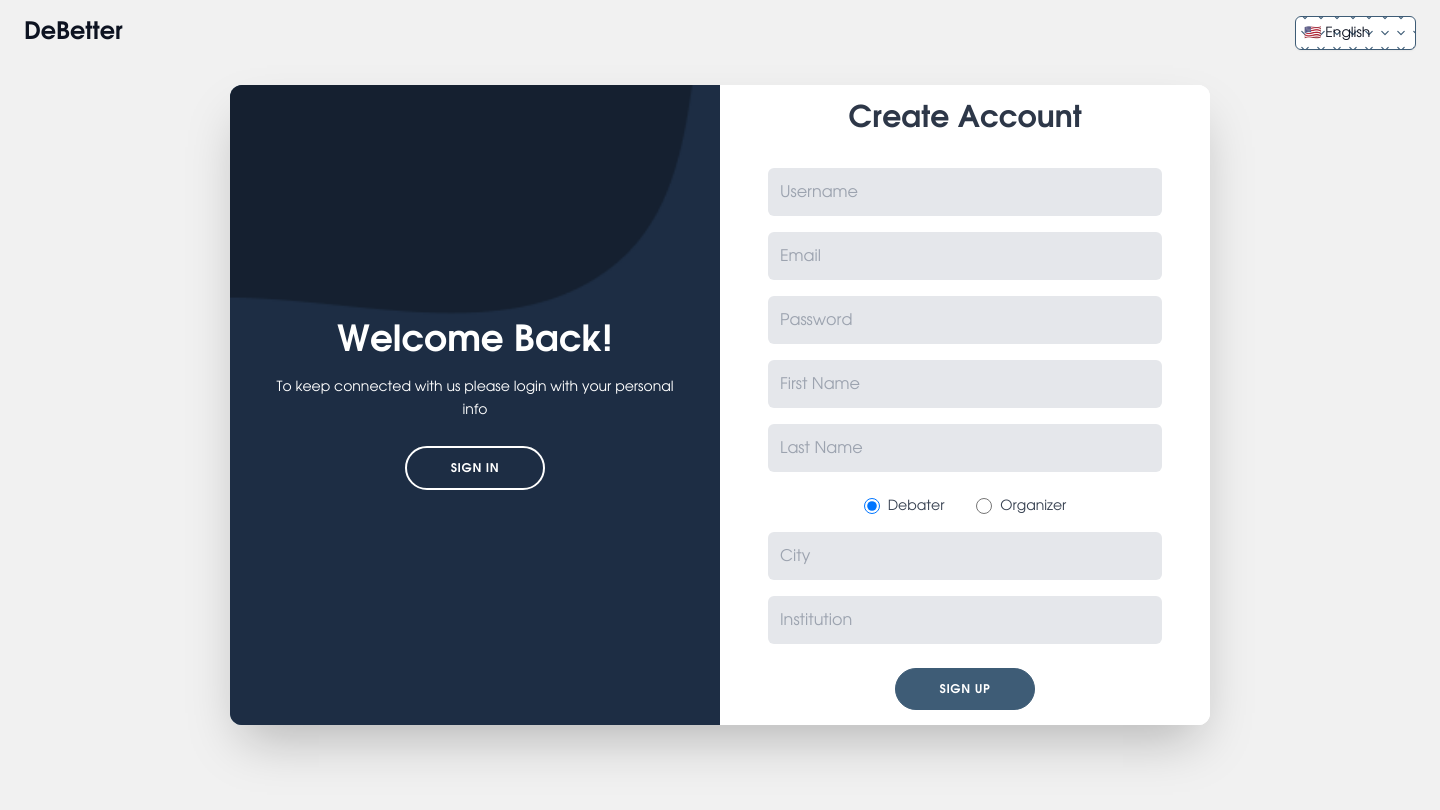
Test: AuthPage sign-up › falls back to the already-taken message when the server returns an empty 409 body
The width and height of the screenshot is (1440, 810).
Type "nurassyl" into the field with id "auth-signup-name". click: [965, 192]
box: [768,168,1162,216]
Type "nurassyl@example.com" into the field with placeholder "Email". click: [965, 256]
box: [768,232,1162,280]
Type "Test12345!" into the password field with placeholder "Password". click: [965, 320]
box: [768,296,1162,344]
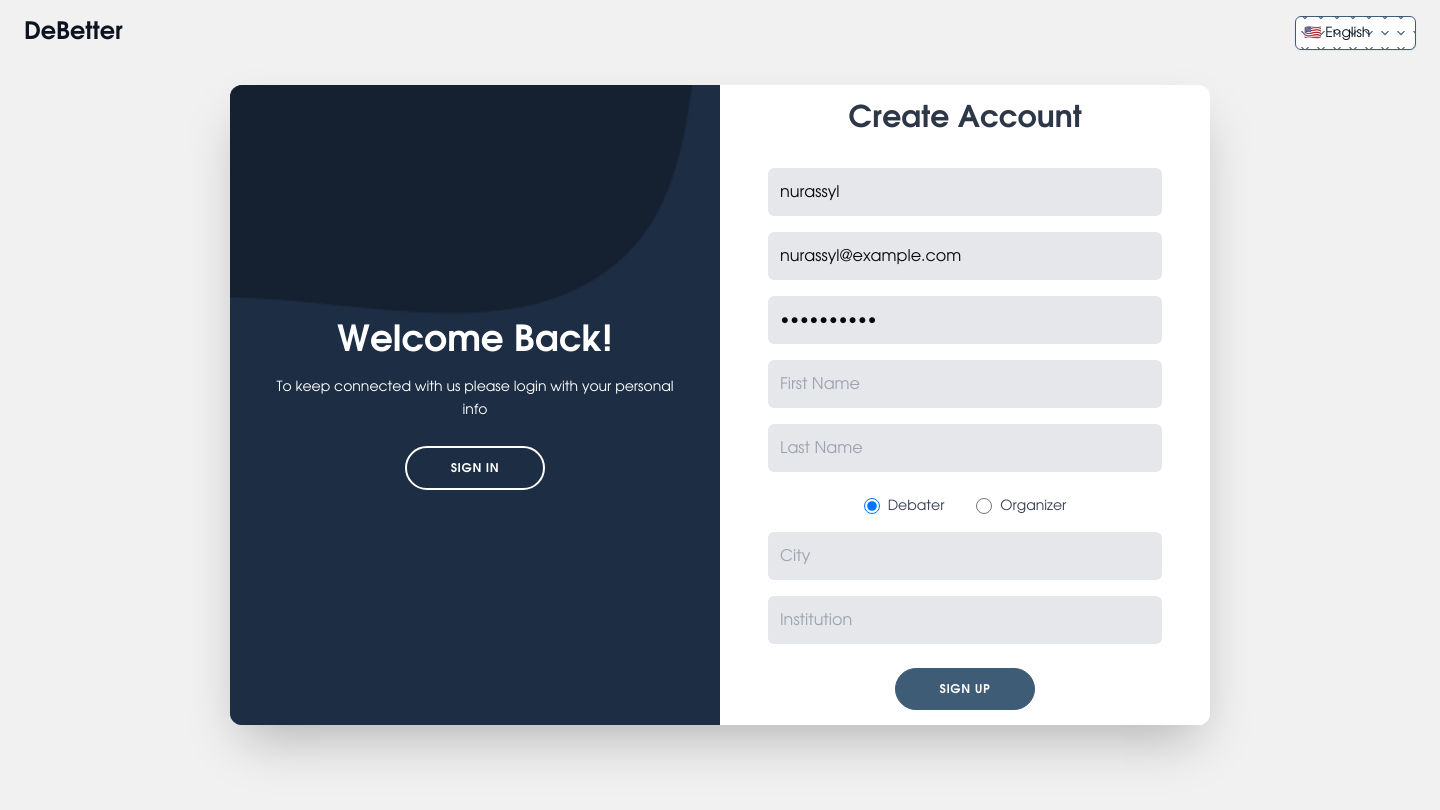
Type "Nurassyl" into the field with placeholder "First Name". click: [965, 384]
box: [768,360,1162,408]
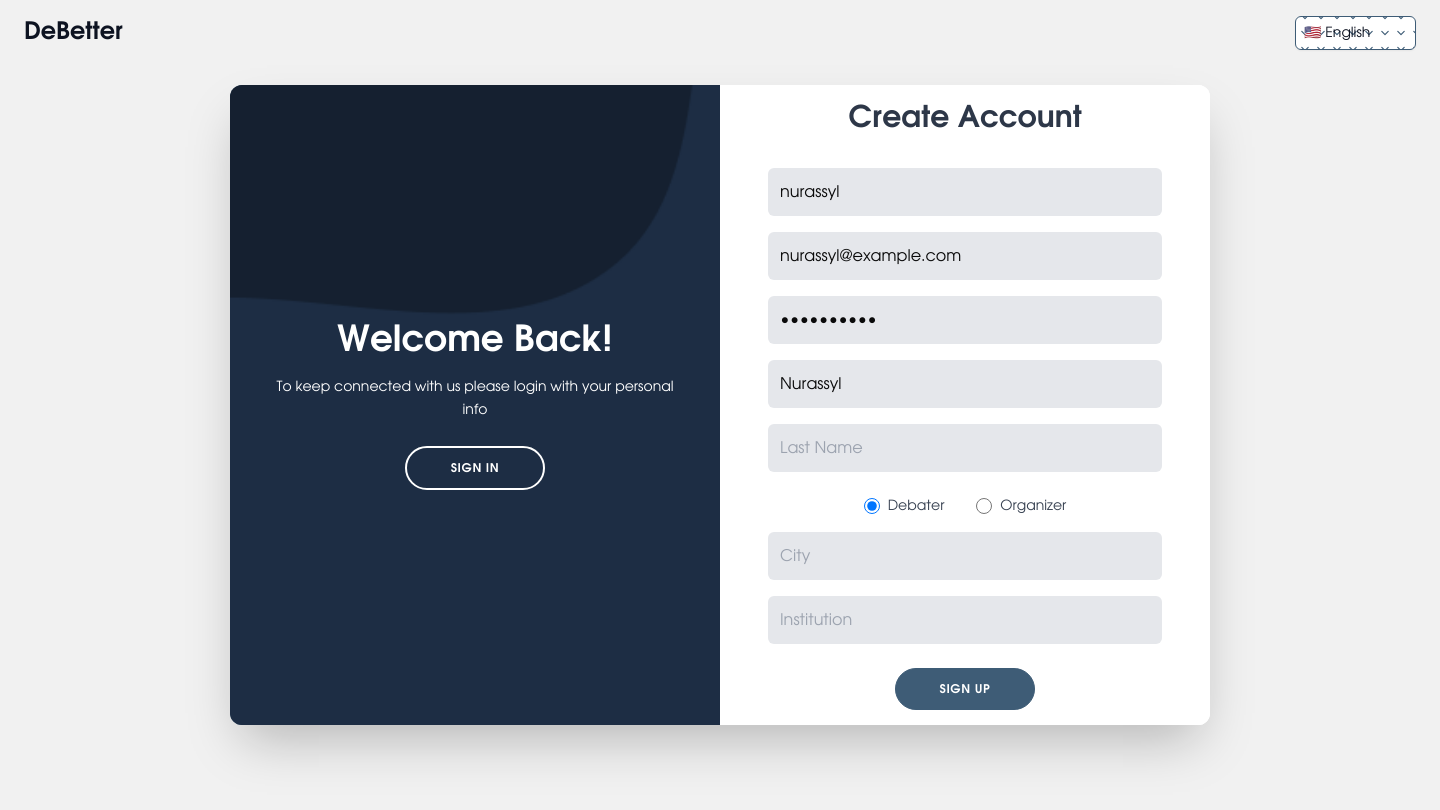
Type "Tursymbayev" into the field with placeholder "Last Name". click: [965, 448]
box: [768,424,1162,472]
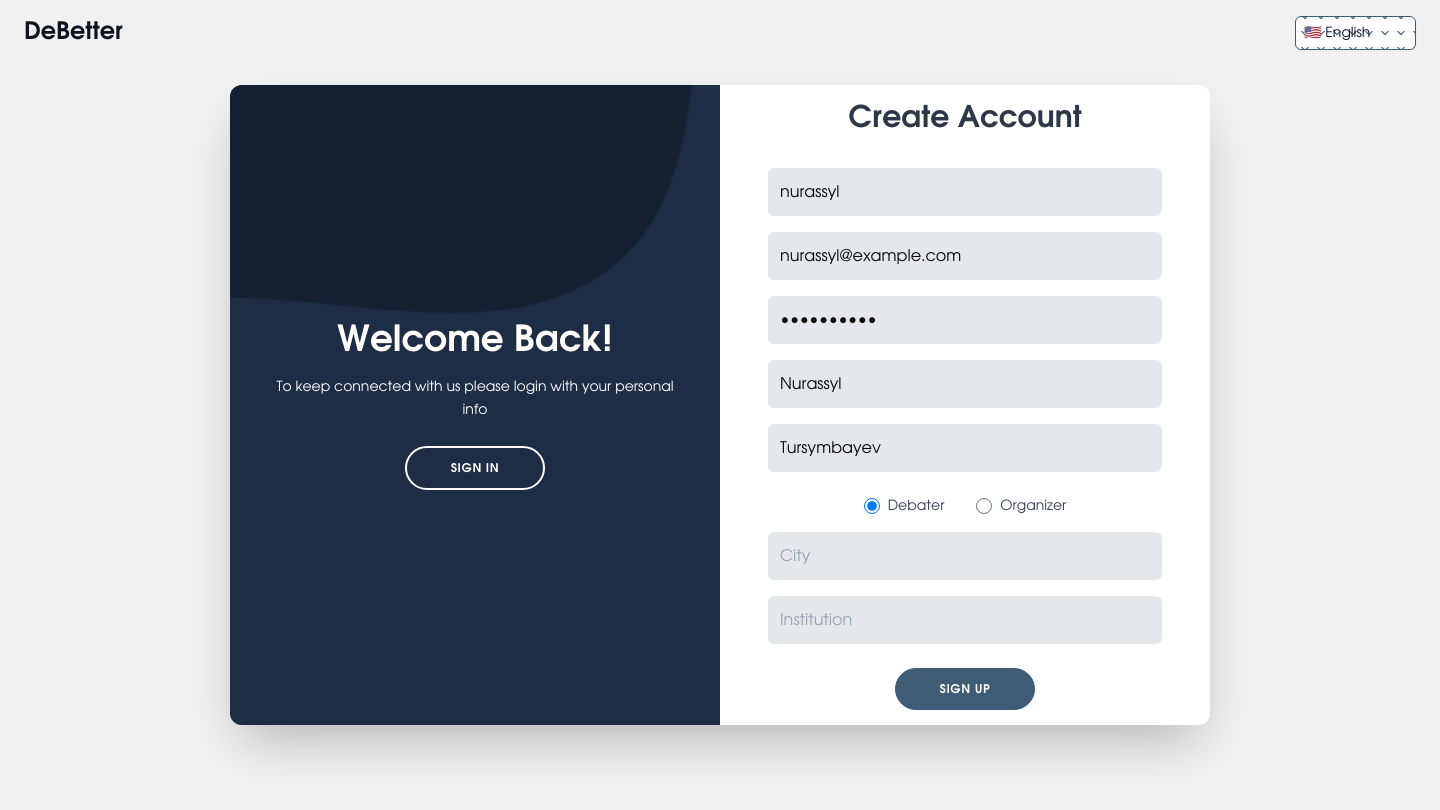
Type "Almaty" into the field with placeholder "City". click: [965, 556]
box: [768,532,1162,580]
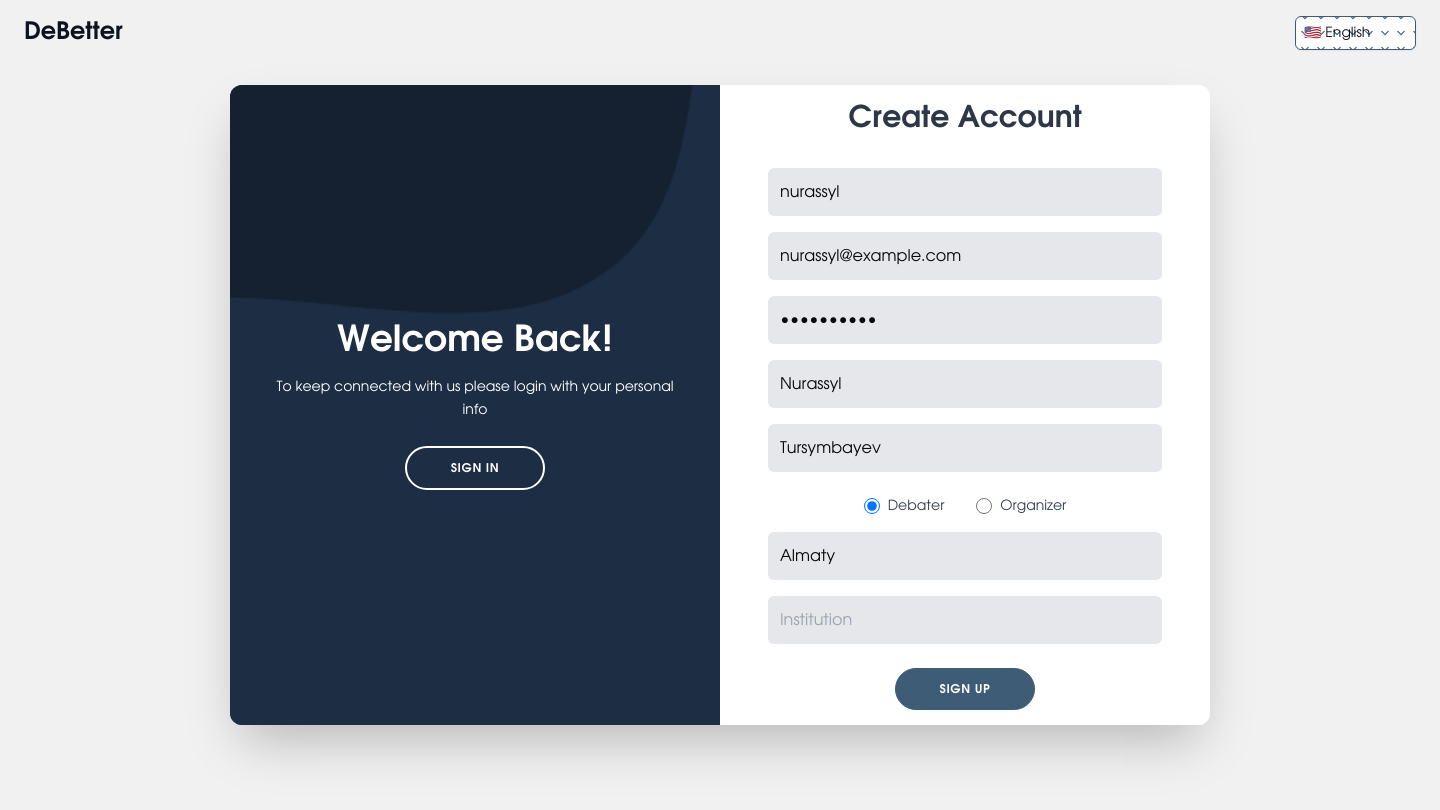
Type "NIS" into the field with placeholder "Institution". click: [965, 620]
box: [768,596,1162,644]
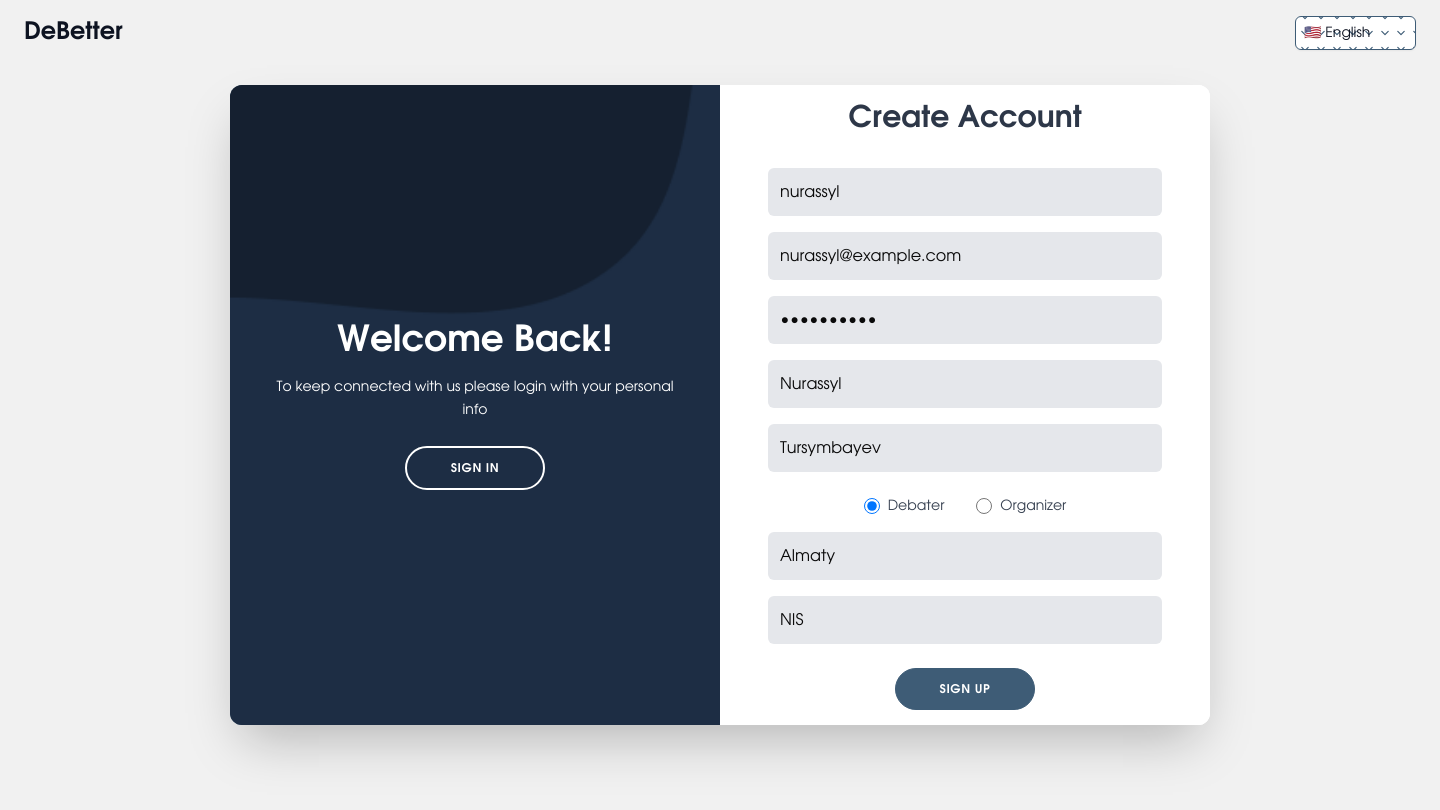
Submit the form with id "auth-signup-name", box [720,85,1210,725]
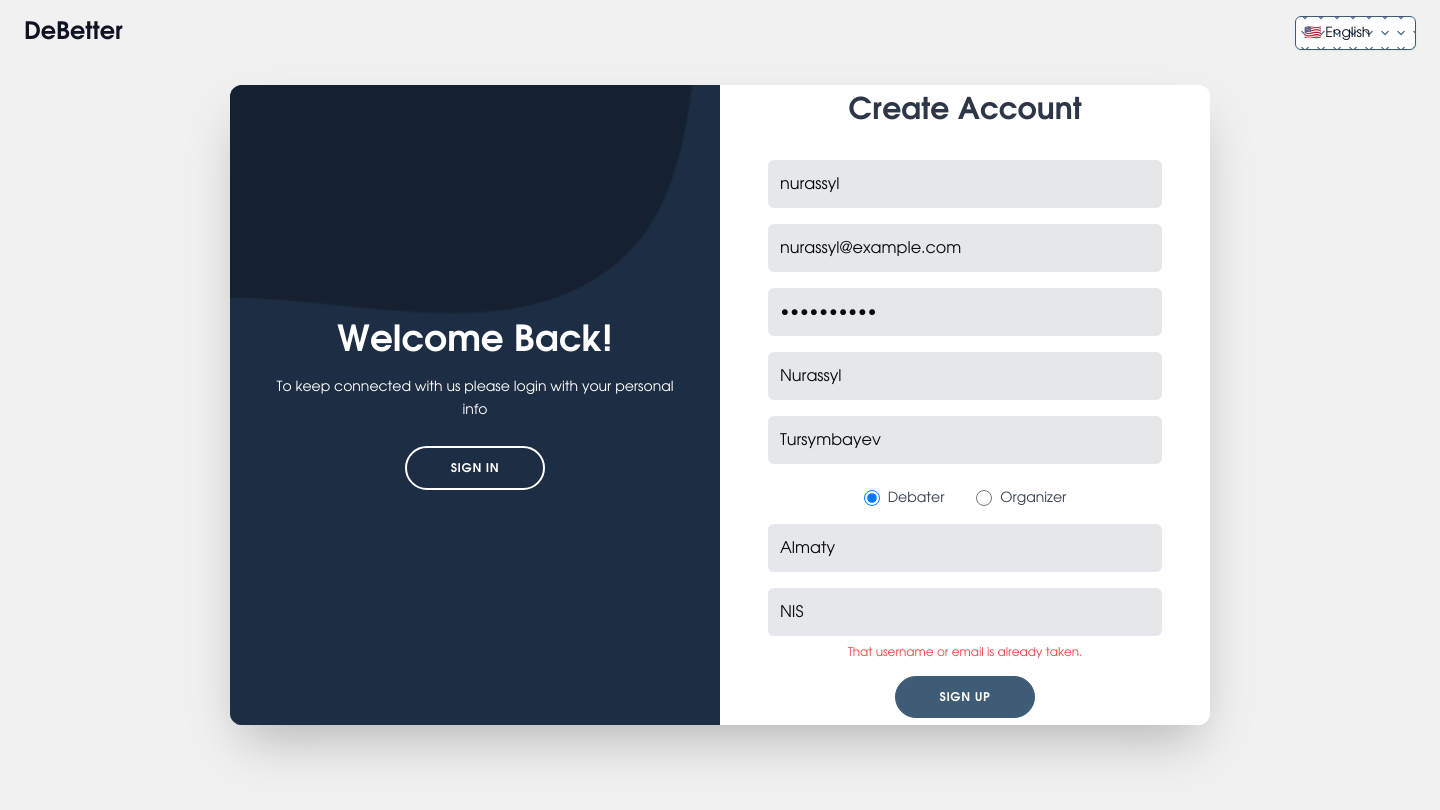
Result: the text "That username or email is already taken." is shown at [848,644,1082,660]
